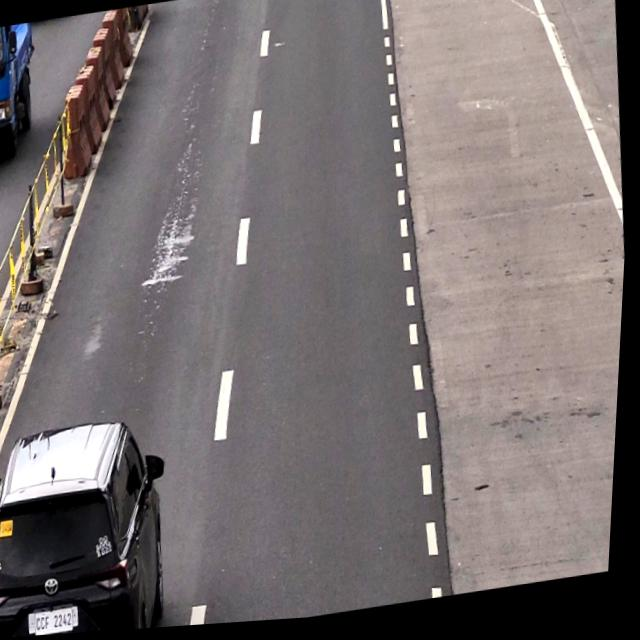Car: (0, 422, 178, 639)
License-Plate: (40, 606, 82, 637)
